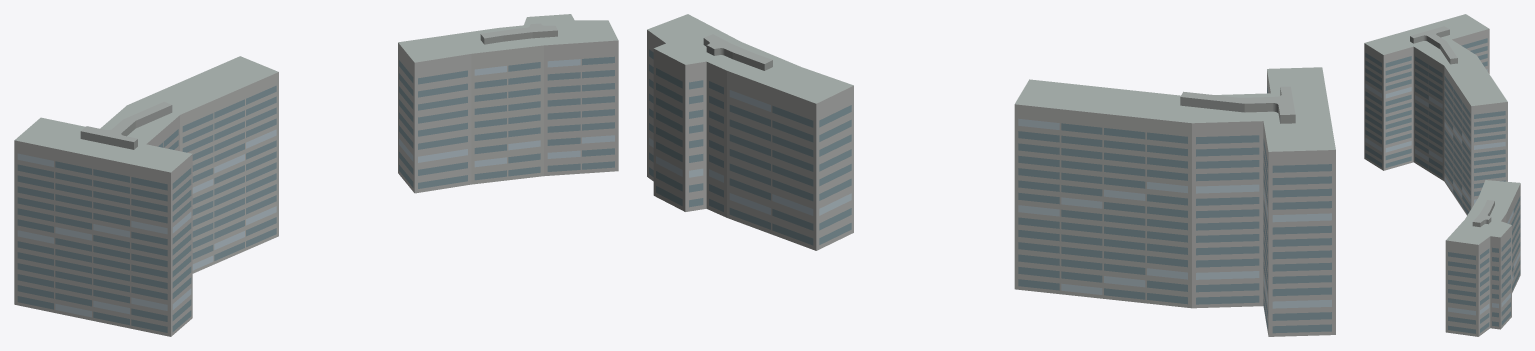
File: apt-a12201004.glb
3 views of the same model, side by side, from view 1: azimuth 30°, elevation 25°; view 2: azimuth 150°, elevation 25°; view 3: azimuth 270°, elevation 25° (orthographic). The views are drawn at different scales.
Visible parts, largest first — view 1: apt-a12201004; view 2: apt-a12201004; view 3: apt-a12201004.
Boxes of the visible parts, bbox=[...] form: apt-a12201004: bbox=[14, 14, 618, 336]; apt-a12201004: bbox=[647, 14, 1335, 336]; apt-a12201004: bbox=[1364, 14, 1520, 336].
Bounding box in the file's own units: 161 × 44 × 51.53.
